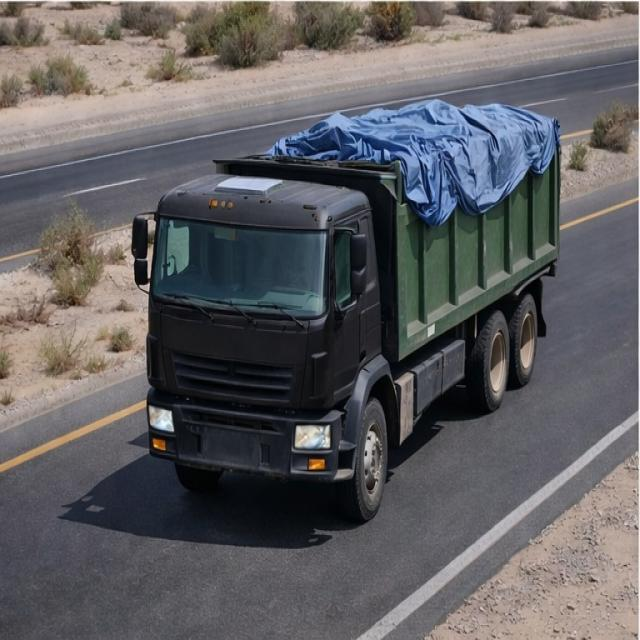trailer: (219, 98, 559, 163)
truck: (127, 100, 568, 522)
